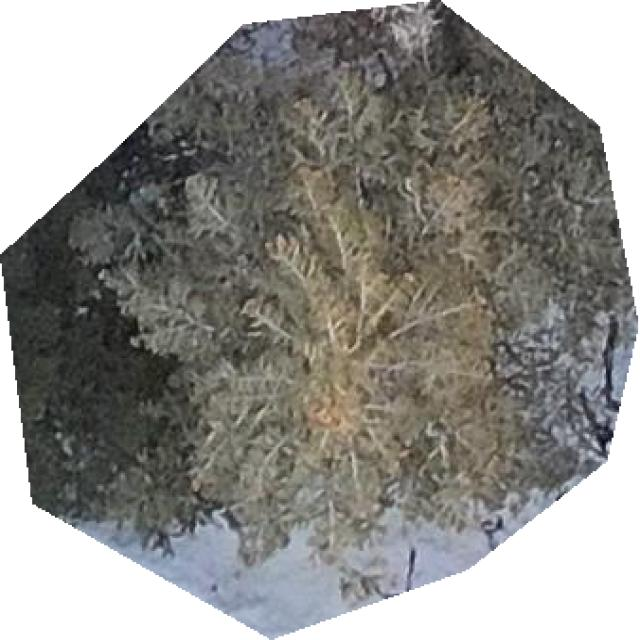spruce: (0, 0, 638, 638)
